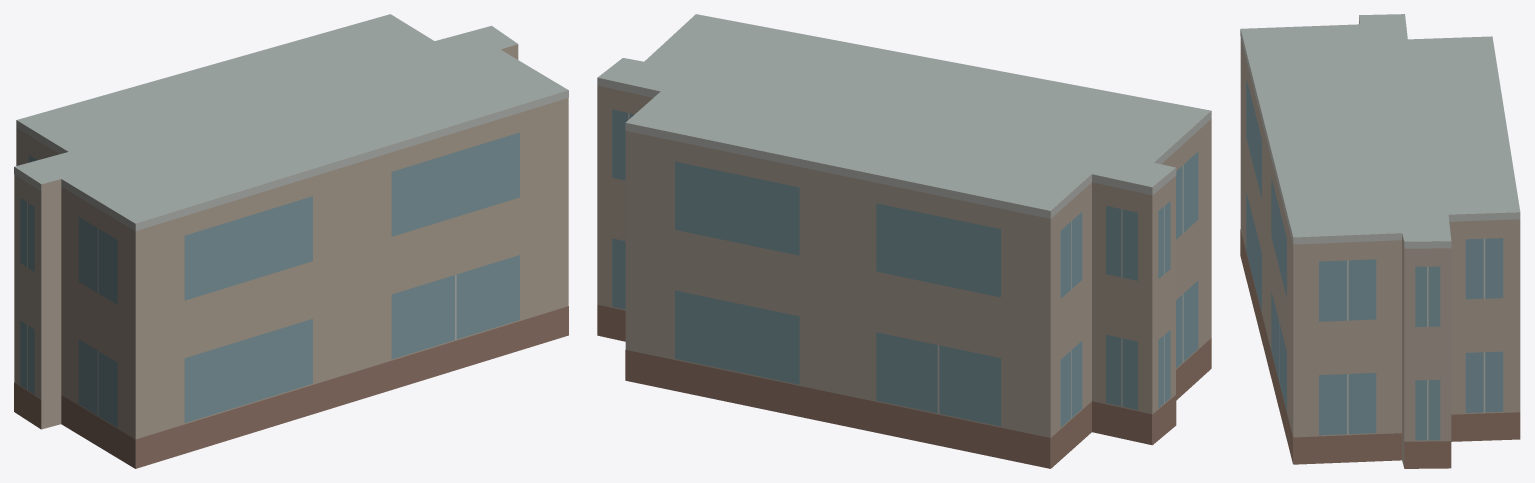
The model's file is survey-upis-32638098.glb.
The picture shows the model from 3 angles, left to right: view 1: azimuth 30°, elevation 25°; view 2: azimuth 150°, elevation 25°; view 3: azimuth 270°, elevation 25°; orthographic projection. The views are drawn at different scales.
Parts seen in each view (by area): view 1: survey-upis-32638098.tmp; view 2: survey-upis-32638098.tmp; view 3: survey-upis-32638098.tmp.
Boxes of the visible parts, x1,y1,x2,y2 form: survey-upis-32638098.tmp: (14,14,568,468); survey-upis-32638098.tmp: (597,14,1211,468); survey-upis-32638098.tmp: (1240,14,1520,468).
Size of the model in its own units: 17 by 7.9 by 8.84.
